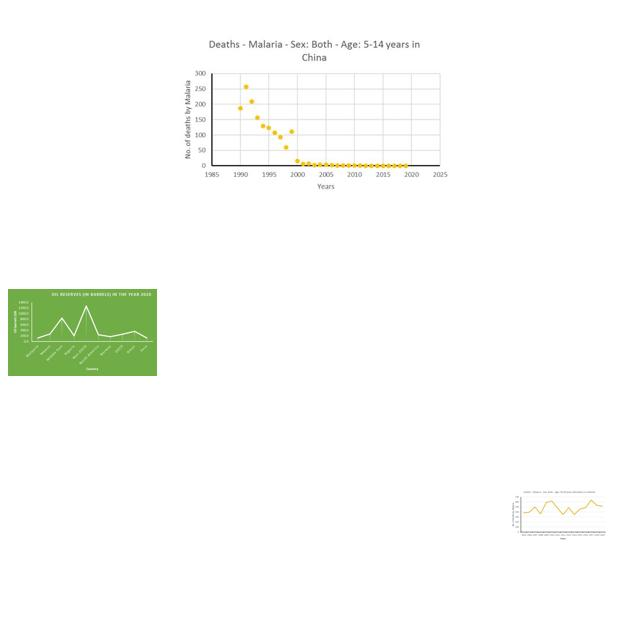Graph: (176, 36, 451, 195), (8, 289, 157, 376), (510, 489, 607, 541)
